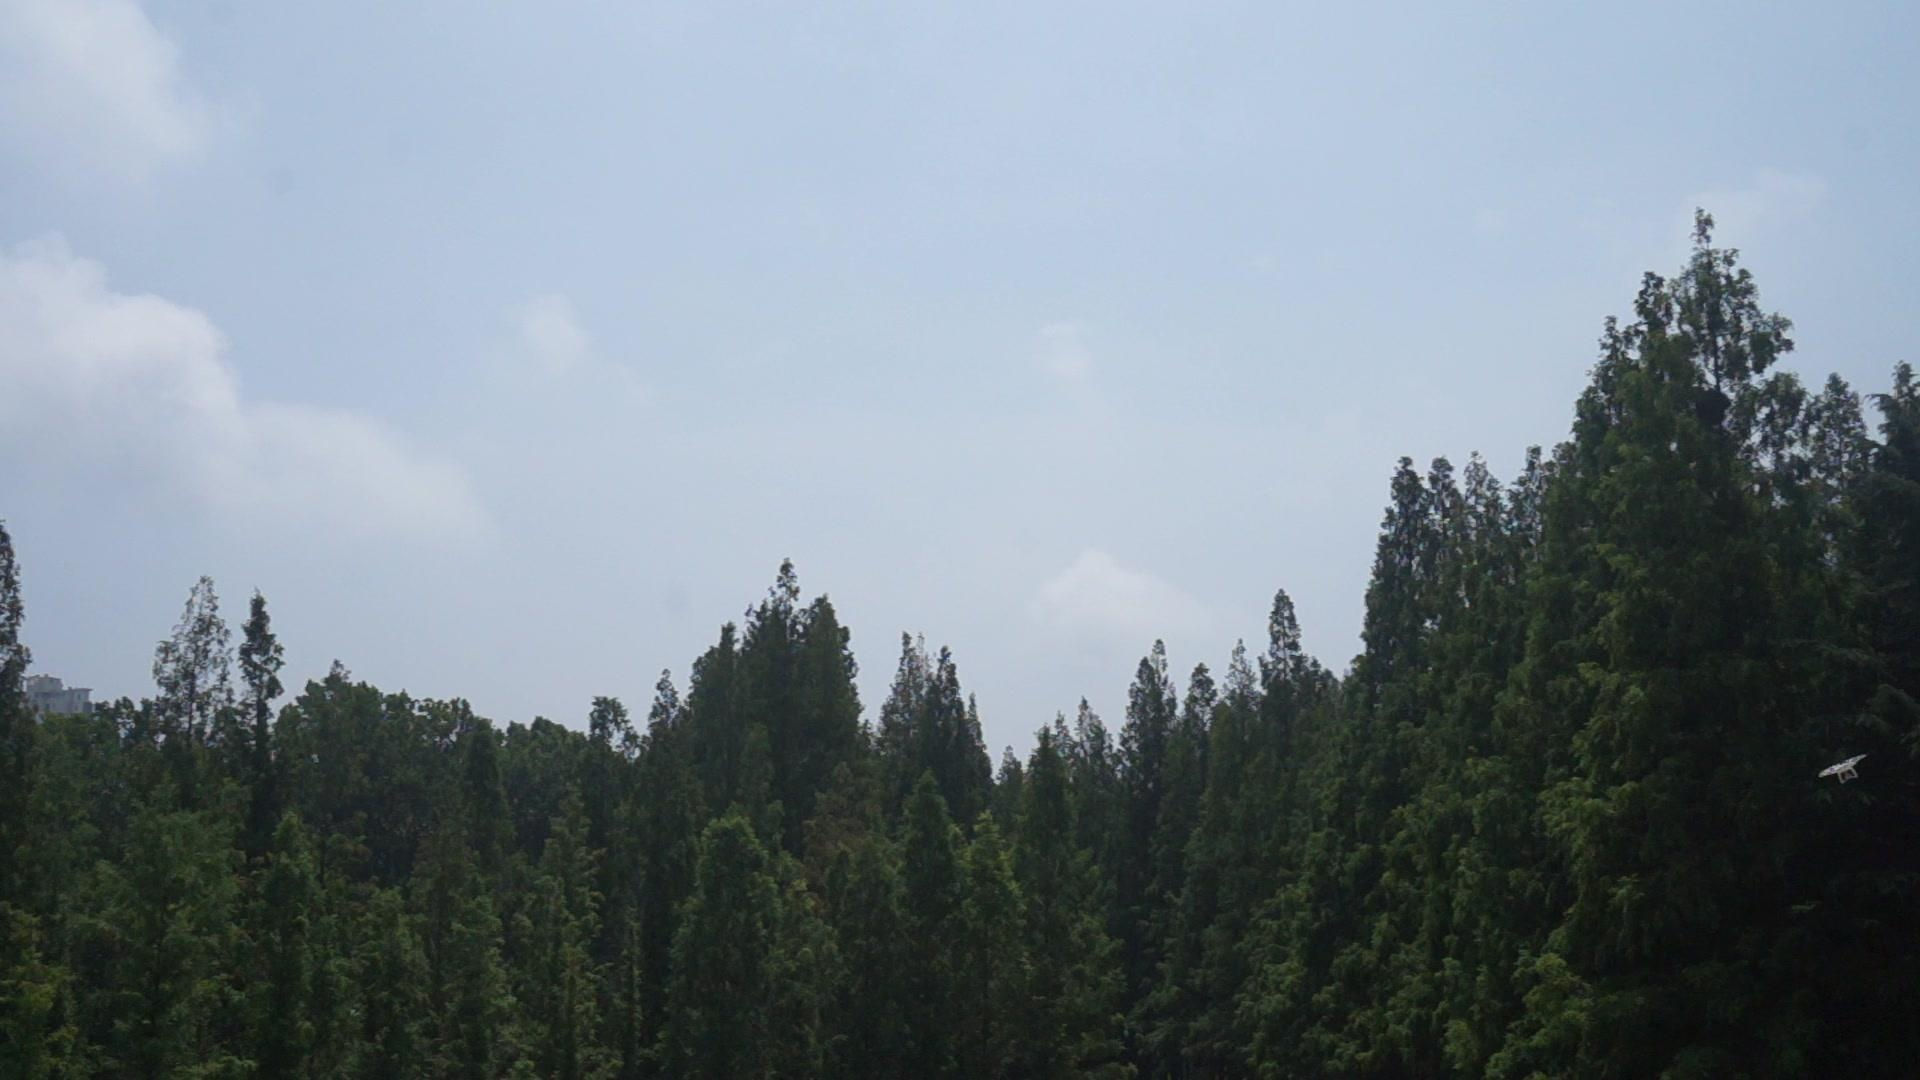UAV: (1818, 753, 1873, 785)
